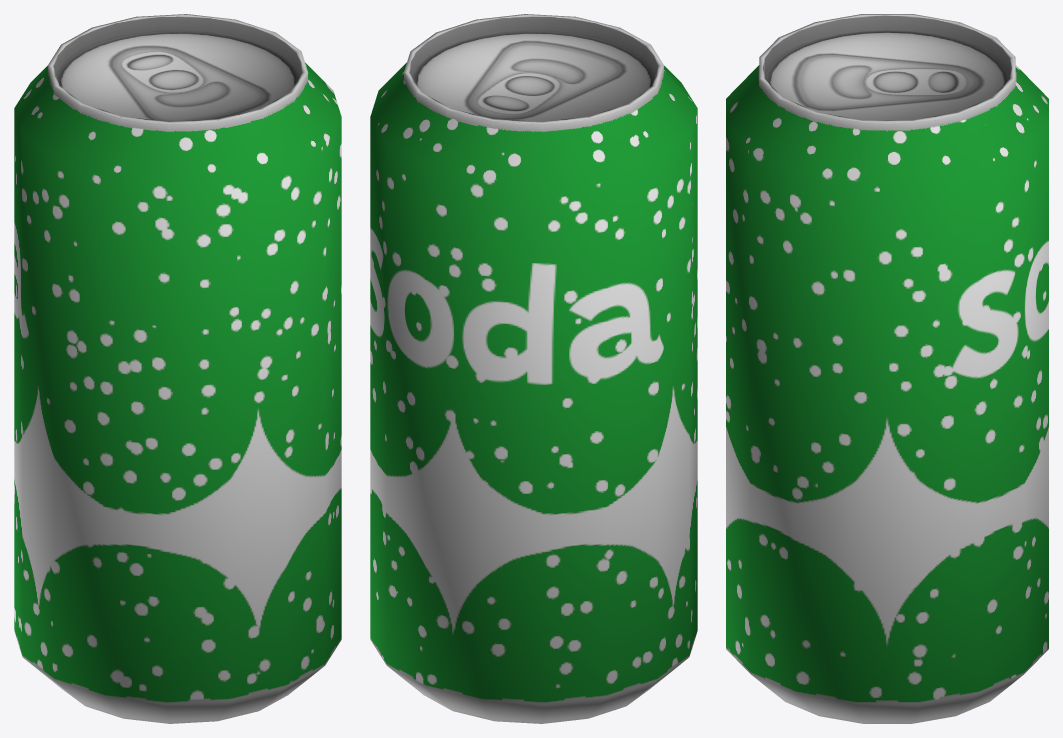
The model's file is sodagreen_001.glb.
The picture shows the model from 3 angles, left to right: view 1: azimuth 30°, elevation 25°; view 2: azimuth 150°, elevation 25°; view 3: azimuth 270°, elevation 25°; orthographic projection.
Parts seen in each view (by area): view 1: sodagreen.001; view 2: sodagreen.001; view 3: sodagreen.001.
Part boxes in pixels (x1=…): sodagreen.001: x1=14, y1=14, x2=341, y2=723; sodagreen.001: x1=370, y1=14, x2=697, y2=723; sodagreen.001: x1=726, y1=14, x2=1048, y2=723.
Bounding box in the file's own units: 0.5842 × 1.21 × 0.5842.
Materials: 1 (1 with a texture image).
